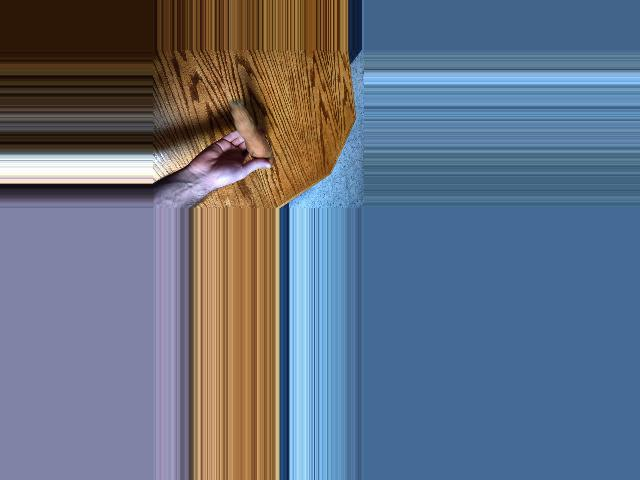sweet_potato: (224, 97, 273, 171)
